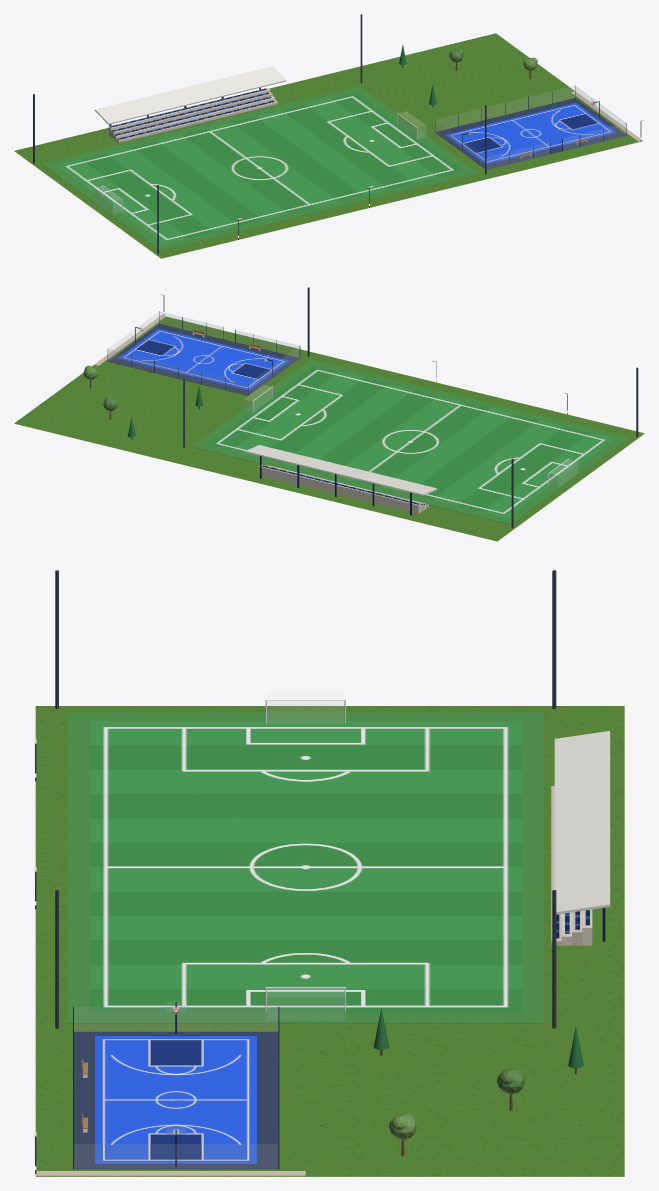
The model's file is pistas.glb.
The picture shows the model from 3 angles, top to bottom: view 1: azimuth 30°, elevation 25°; view 2: azimuth 150°, elevation 25°; view 3: azimuth 270°, elevation 25°; orthographic projection. The views are drawn at different scales.
Parts seen in each view (by area): view 1: MeshStandardMaterial-tex (×3), mate-4f9a4c, vidrio-e2e8f0, brillo-f7f4ee, mate-3a4a6a, mate-e6dfd2, mate-d9d1c2, vidrio-ffffff, brillo-14285a, metal-3a4256, brillo-2a62b8, mate-d9cdb6; view 2: MeshStandardMaterial-tex (×3), mate-4f9a4c, vidrio-e2e8f0, brillo-f7f4ee, mate-3a4a6a, mate-e6dfd2, vidrio-ffffff, metal-3a4256, metal-14285a; view 3: MeshStandardMaterial-tex (×3), mate-4f9a4c, vidrio-e2e8f0, brillo-f7f4ee, mate-3a4a6a, vidrio-ffffff, metal-3a4256, mate-d9cdb6, mate-d9d1c2.
Part boxes in pixels (left/top/right/bottom): MeshStandardMaterial-tex (×3): left=14, top=33, right=642, bottom=258; mate-4f9a4c: left=41, top=86, right=477, bottom=250; vidrio-e2e8f0: left=435, top=86, right=626, bottom=169; brillo-f7f4ee: left=94, top=66, right=644, bottom=219; mate-3a4a6a: left=435, top=98, right=626, bottom=169; mate-e6dfd2: left=108, top=88, right=275, bottom=140; mate-d9d1c2: left=111, top=92, right=277, bottom=142; vidrio-ffffff: left=94, top=98, right=595, bottom=212; brillo-14285a: left=112, top=88, right=274, bottom=139; metal-3a4256: left=33, top=14, right=641, bottom=254; brillo-2a62b8: left=109, top=90, right=271, bottom=139; mate-d9cdb6: left=571, top=91, right=642, bottom=141; MeshStandardMaterial-tex (×3): left=14, top=316, right=644, bottom=541; mate-4f9a4c: left=191, top=359, right=629, bottom=524; vidrio-e2e8f0: left=108, top=312, right=299, bottom=395; brillo-f7f4ee: left=160, top=294, right=568, bottom=495; mate-3a4a6a: left=108, top=323, right=299, bottom=395; mate-e6dfd2: left=259, top=464, right=426, bottom=513; vidrio-ffffff: left=139, top=325, right=576, bottom=486; metal-3a4256: left=163, top=287, right=638, bottom=528; metal-14285a: left=107, top=311, right=411, bottom=515; MeshStandardMaterial-tex (×3): left=35, top=706, right=624, bottom=1176; mate-4f9a4c: left=68, top=712, right=543, bottom=1023; vidrio-e2e8f0: left=74, top=1007, right=277, bottom=1168; brillo-f7f4ee: left=34, top=731, right=610, bottom=1136; mate-3a4a6a: left=74, top=1031, right=278, bottom=1169; vidrio-ffffff: left=167, top=691, right=344, bottom=1133; metal-3a4256: left=35, top=570, right=556, bottom=1174; mate-d9cdb6: left=35, top=1171, right=305, bottom=1176; mate-d9d1c2: left=551, top=786, right=582, bottom=945.
Bounding box in the file's own units: 103 × 14.06 × 54.61.
Materials: 28 (3 with a texture image).
